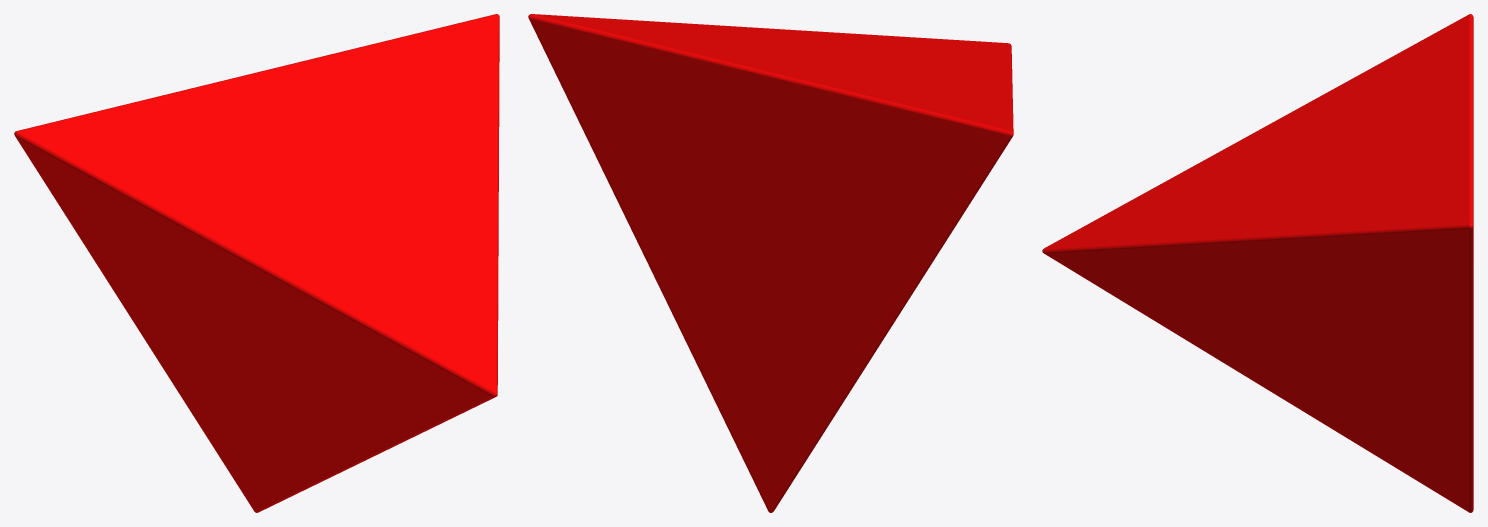
File: pergunta1.glb
3 renders of one model, left to right at view 1: azimuth 30°, elevation 25°; view 2: azimuth 150°, elevation 25°; view 3: azimuth 270°, elevation 25°, orthographic. The views are drawn at different scales.
Visible parts, largest first — view 1: node_id30; view 2: node_id30; view 3: node_id30.
Boxes of the visible parts, x1,y1,x2,y2 form: node_id30: [14, 14, 499, 512]; node_id30: [528, 14, 1013, 512]; node_id30: [1042, 14, 1473, 512].
Size of the model in its own units: 0.512 by 0.4442 by 0.4407.
1 material, 1 textured.
